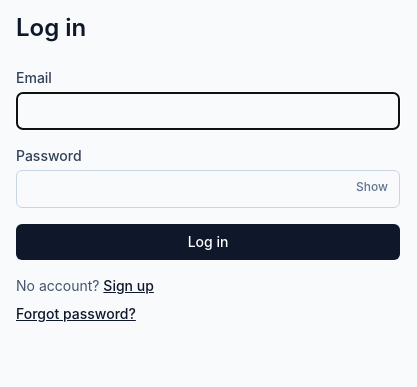
Scenario: LoginPage › shows validation errors instead of submitting when fields are invalid
Type "not-an-email" into the field labelled "Email". click: (208, 111)
box: left=16, top=92, right=400, bottom=130
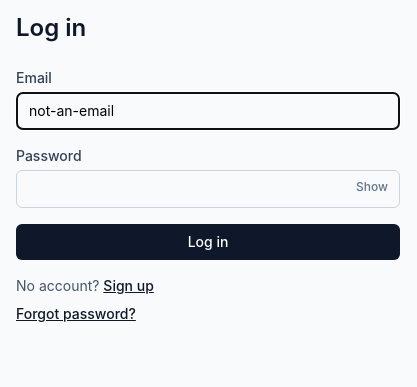
Click the button "Log in". click: (208, 242)
box: left=16, top=224, right=400, bottom=260
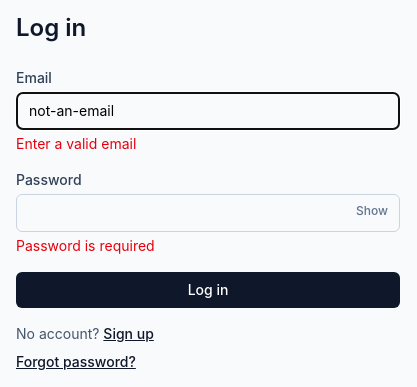
Check: the text "Enter a valid email" is shown, box left=16, top=135, right=136, bottom=152
